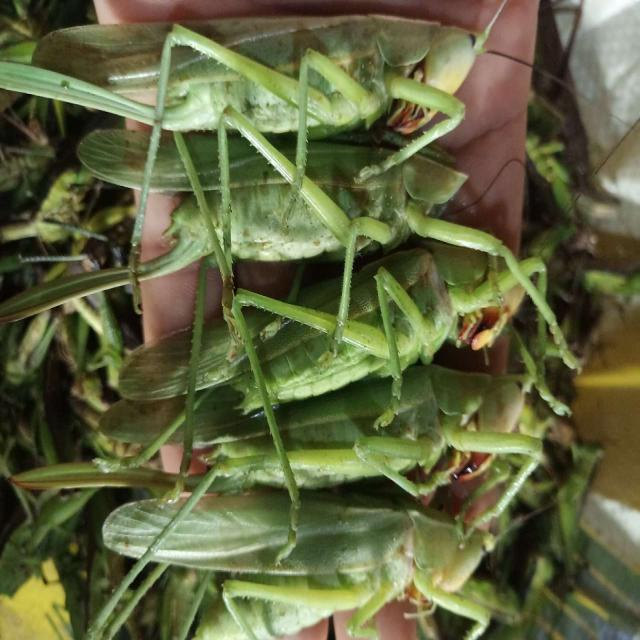ZhaMeng: (88, 227, 542, 418), (42, 7, 504, 150), (92, 493, 516, 628), (84, 368, 554, 486), (59, 137, 498, 258)
